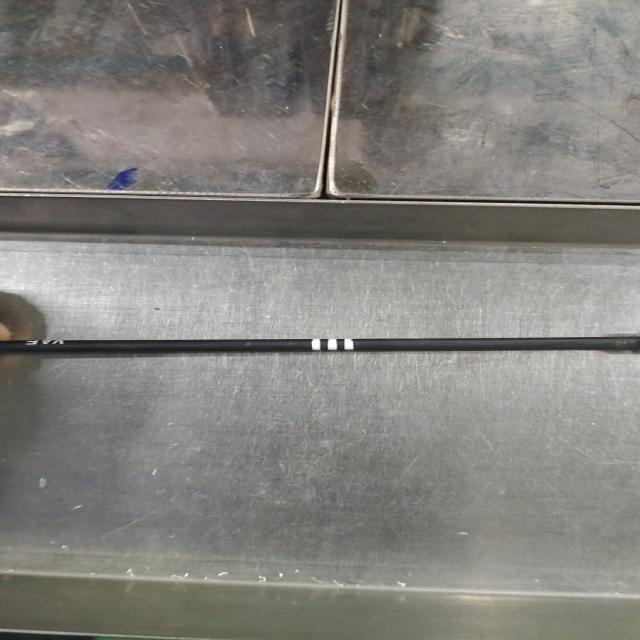white: (311, 337, 354, 352)
